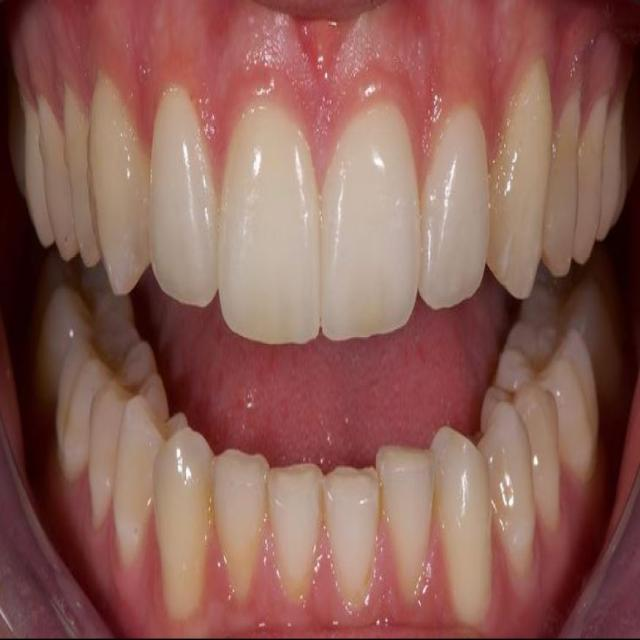1st Molar: (495, 323, 599, 480), (56, 339, 156, 482), (23, 107, 55, 248), (601, 111, 629, 240)
1st Premolar: (481, 405, 538, 589), (113, 399, 163, 560), (543, 91, 580, 278), (64, 92, 101, 270)
2nd Molar: (37, 259, 142, 401), (521, 257, 622, 381), (7, 106, 24, 183)
2nd Premolar: (35, 98, 75, 262), (515, 394, 562, 530), (576, 95, 611, 262), (88, 382, 125, 533)
Canine: (488, 59, 552, 301), (89, 76, 150, 296), (431, 424, 494, 625), (153, 418, 213, 622)
Central Incisor: (219, 106, 322, 347), (320, 105, 420, 341), (268, 464, 325, 604), (324, 468, 380, 607)
Lateral Incisor: (150, 84, 219, 310), (418, 107, 490, 311), (213, 448, 269, 608), (376, 445, 432, 601)
